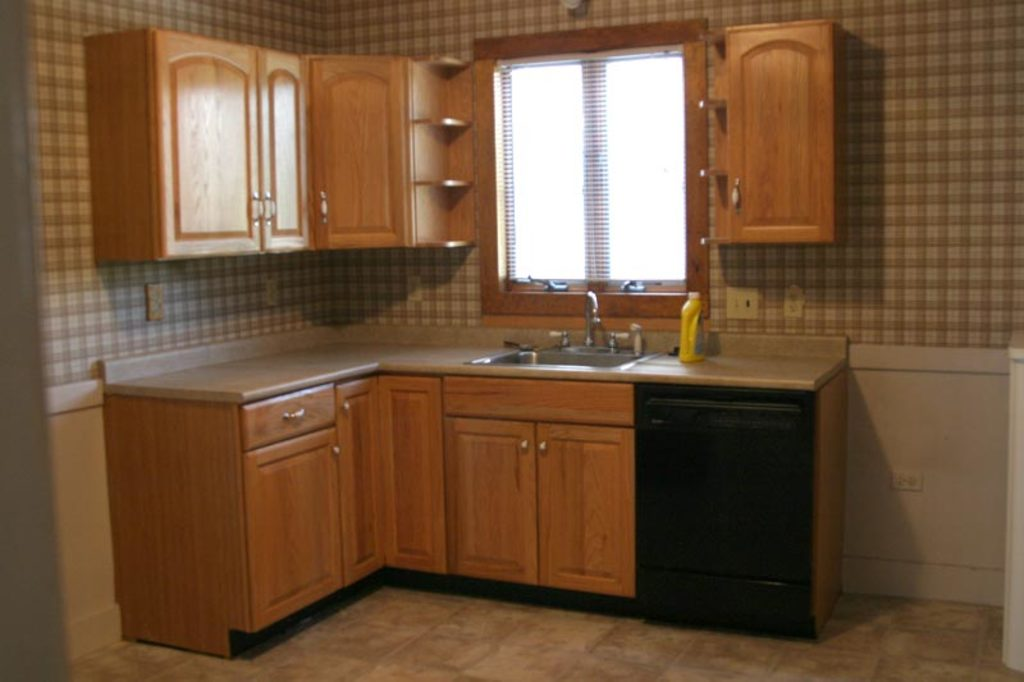cabinet door: (159, 33, 266, 250), (721, 32, 830, 234), (311, 63, 408, 242), (543, 427, 633, 590), (447, 422, 539, 571), (248, 450, 340, 598), (333, 387, 386, 566), (255, 63, 306, 243), (246, 393, 335, 435)
handle: (729, 178, 745, 213), (316, 193, 330, 228), (286, 404, 310, 421), (265, 192, 276, 223), (253, 196, 262, 224)
